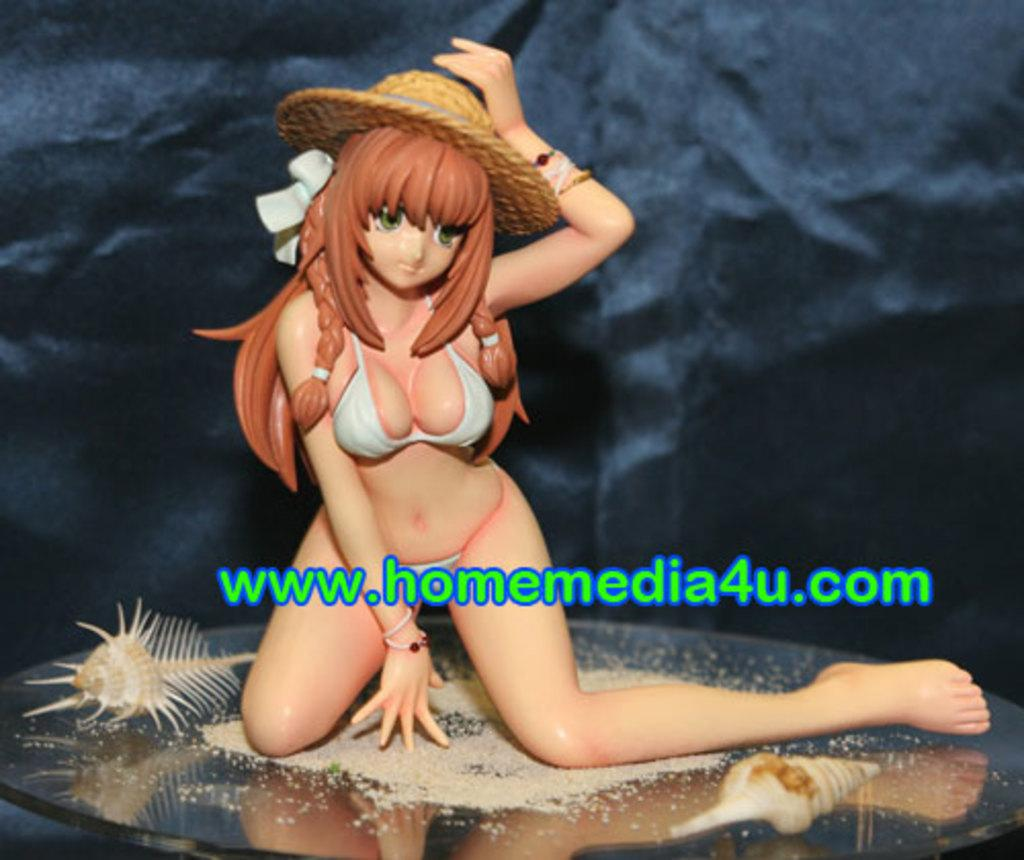Hat: (272, 66, 559, 238)
